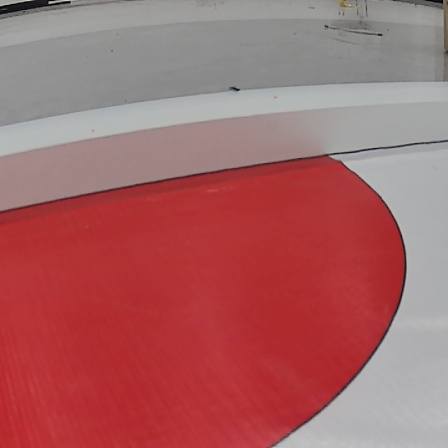red_base: (1, 157, 407, 448)
